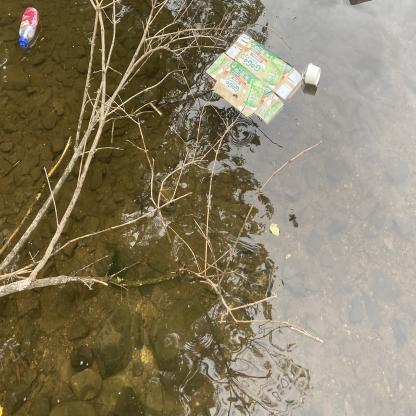trash: (202, 30, 304, 124), (18, 6, 40, 50), (304, 62, 324, 90), (300, 58, 310, 86)
